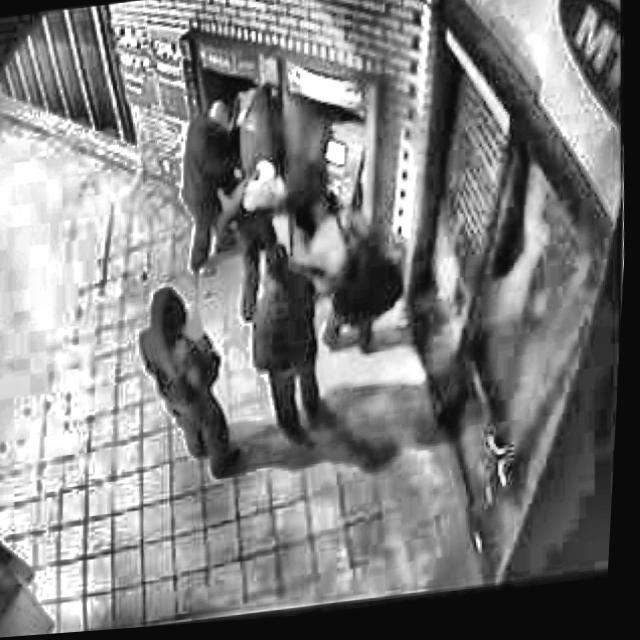burglary: (162, 62, 424, 464)
